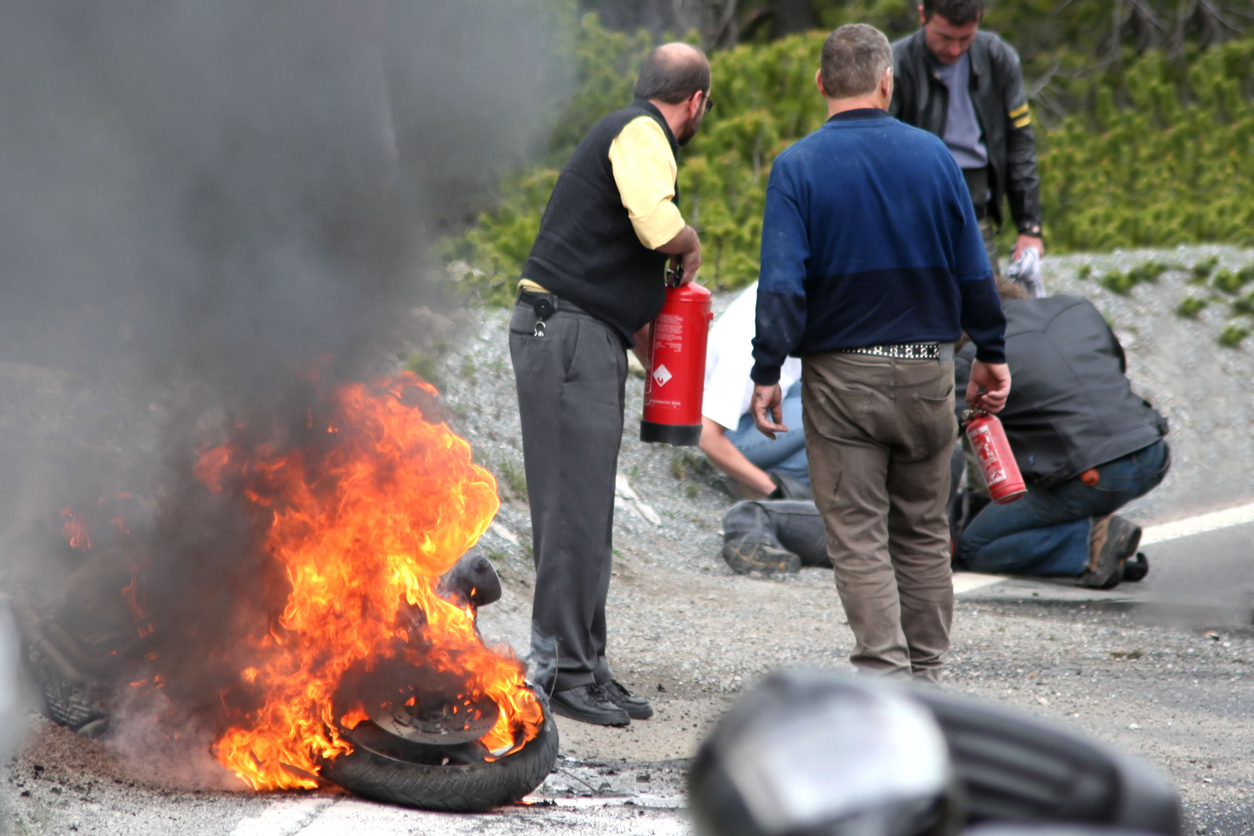fire: (205, 404, 543, 774)
